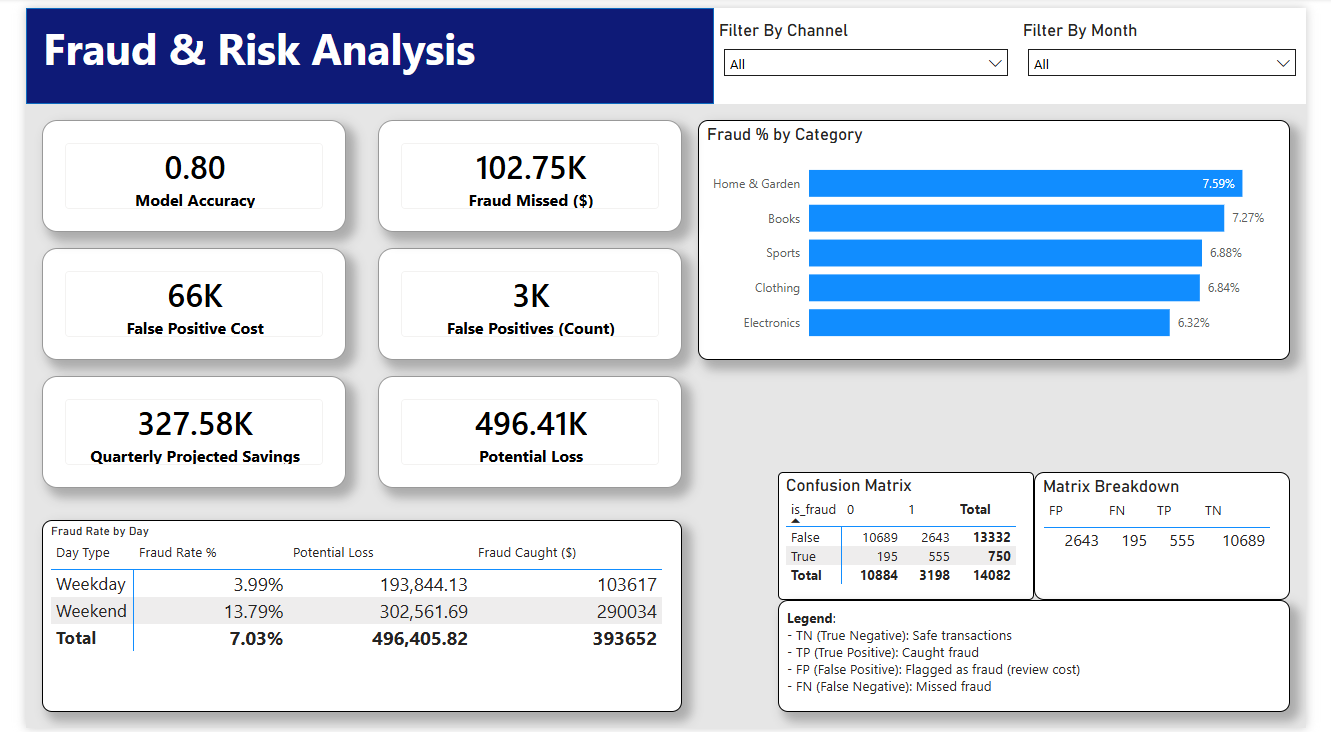

Layout of this report page (visuals, bound fields, positions):
{"tool":"powerbi","page":{"name":"Analysis","canvas":[1280,720],"ordinal":1},"visuals":[{"type":"shape","box":[0,0,688,96],"z":0},{"type":"pivotTable","title":"Fraud Rate by Day","fields":{"Values":["fraud_flagged.Fraud Rate %","fraud_flagged.Potential Loss","fraud_flagged.Fraud Caught ($)"],"Rows":["Date Table.Day Type"]},"box":[16,512,640,192],"z":1000},{"type":"clusteredBarChart","title":"Fraud % by Category","fields":{"Category":["products_raw.category"],"Y":["fraud_flagged.Fraud Rate %"]},"box":[672,112,592,240],"z":2000},{"type":"slicer","title":"Filter By Month","fields":{"Values":["Date Table.Month Name"]},"box":[992,0,288,96],"z":3000},{"type":"slicer","title":"Filter By Channel","fields":{"Values":["transactions_clean.acquisition_channel"]},"box":[688,0,304,96],"z":4000},{"type":"cardVisual","fields":{"Data":["fraud_flagged.False Positives (Count)"]},"box":[352,240,304,112],"z":5000},{"type":"cardVisual","fields":{"Data":["fraud_flagged.False Positive Cost"]},"box":[16,240,304,112],"z":6000},{"type":"cardVisual","fields":{"Data":["fraud_flagged.Fraud Missed ($)"]},"box":[352,112,304,112],"z":7000},{"type":"cardVisual","fields":{"Data":["fraud_flagged.Model Accuracy"]},"box":[16,112,304,112],"z":8000},{"type":"pivotTable","title":"Confusion Matrix","fields":{"Rows":["transactions_clean.is_fraud"],"Columns":["transactions_clean.fraud_prediction"],"Values":["transactions_clean.Total Transactions"]},"box":[752,464,256,128],"z":9000},{"type":"tableEx","title":"Matrix Breakdown","fields":{"Values":["transactions_clean.FP","transactions_clean.FN","transactions_clean.TP","transactions_clean.TN"]},"box":[1008,464,256,128],"z":10000},{"type":"textbox","box":[752,592,512,112],"z":11000},{"type":"cardVisual","fields":{"Data":["fraud_flagged.Quarterly Projected Savings"]},"box":[16,368,304,112],"z":12000},{"type":"cardVisual","fields":{"Data":["fraud_flagged.Potential Loss"]},"box":[352,368,304,112],"z":13000}]}

Visuals, with their boxes in screenshot pixels (x1, y1, x2, y2), scaled from the page's 1280x720 canvas onto the 1331x732 screenshot:
shape: x1=0 y1=0 x2=715 y2=98
"Fraud Rate by Day" pivotTable: x1=17 y1=521 x2=682 y2=716
"Fraud % by Category" clusteredBarChart: x1=699 y1=114 x2=1314 y2=358
"Filter By Month" slicer: x1=1032 y1=0 x2=1330 y2=98
"Filter By Channel" slicer: x1=715 y1=0 x2=1032 y2=98
cardVisual - fraud_flagged.False Positives (Count): x1=366 y1=244 x2=682 y2=358
cardVisual - fraud_flagged.False Positive Cost: x1=17 y1=244 x2=333 y2=358
cardVisual - fraud_flagged.Fraud Missed ($): x1=366 y1=114 x2=682 y2=228
cardVisual - fraud_flagged.Model Accuracy: x1=17 y1=114 x2=333 y2=228
"Confusion Matrix" pivotTable: x1=782 y1=472 x2=1048 y2=602
"Matrix Breakdown" tableEx: x1=1048 y1=472 x2=1314 y2=602
textbox: x1=782 y1=602 x2=1314 y2=716
cardVisual - fraud_flagged.Quarterly Projected Savings: x1=17 y1=374 x2=333 y2=488
cardVisual - fraud_flagged.Potential Loss: x1=366 y1=374 x2=682 y2=488
